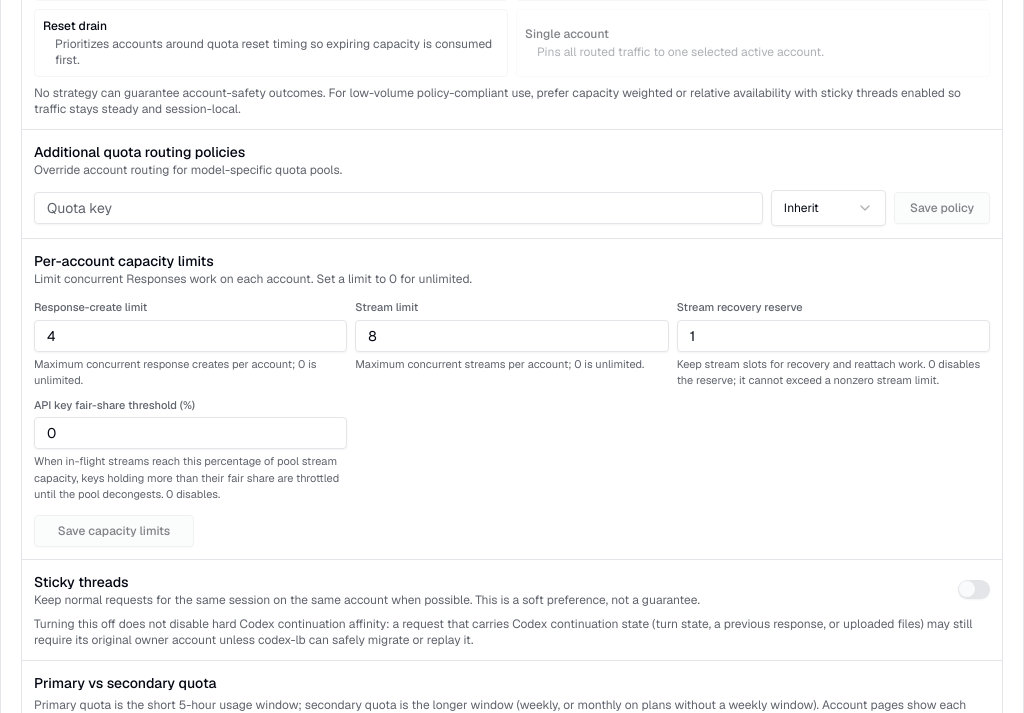
Test: RoutingSettings › rejects invalid account capacity limits before saving
(page scrolled)
Replace the text in the number field labelled "Stream limit" with "2" at (512, 336), box [355, 320, 669, 352]
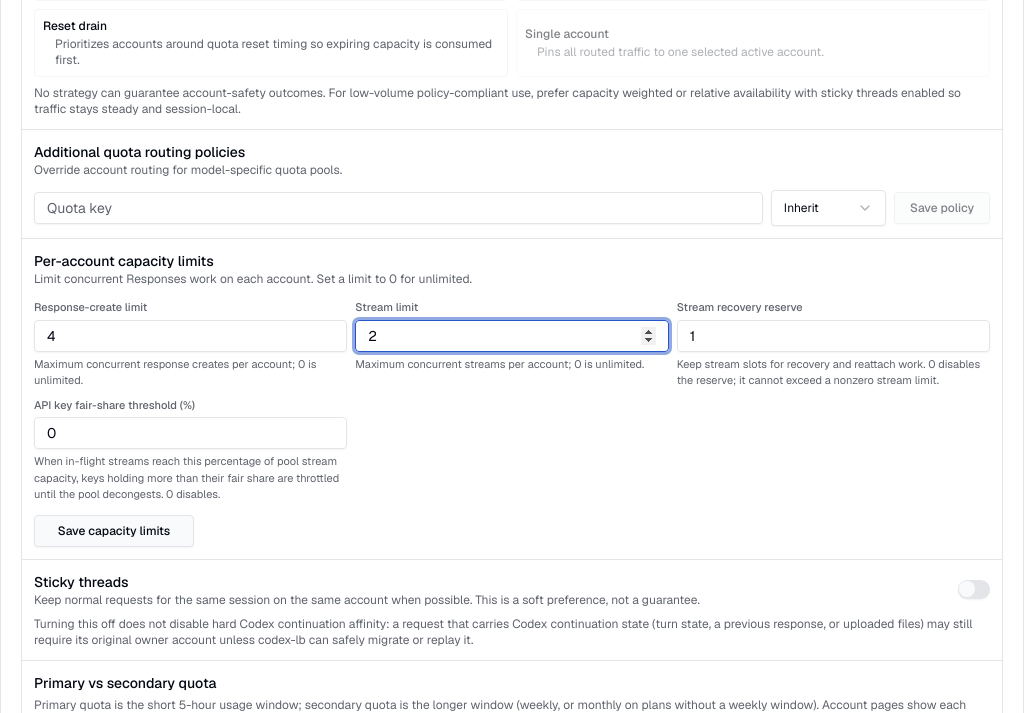
Replace the text in the number field labelled "Stream recovery reserve" with "3" at (833, 336), box [677, 320, 990, 352]
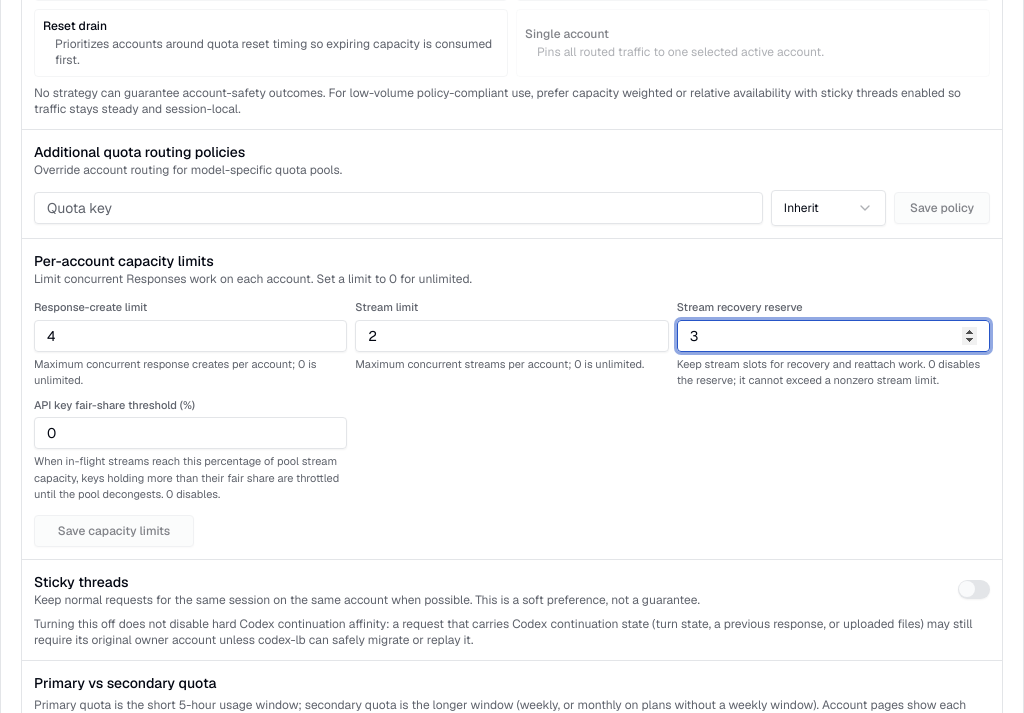
Check: the button "Save capacity limits" is disabled, box [34, 514, 194, 546]
Replace the text in the number field labelled "Stream recovery reserve" with "1.5" at (833, 336), box [677, 320, 990, 352]
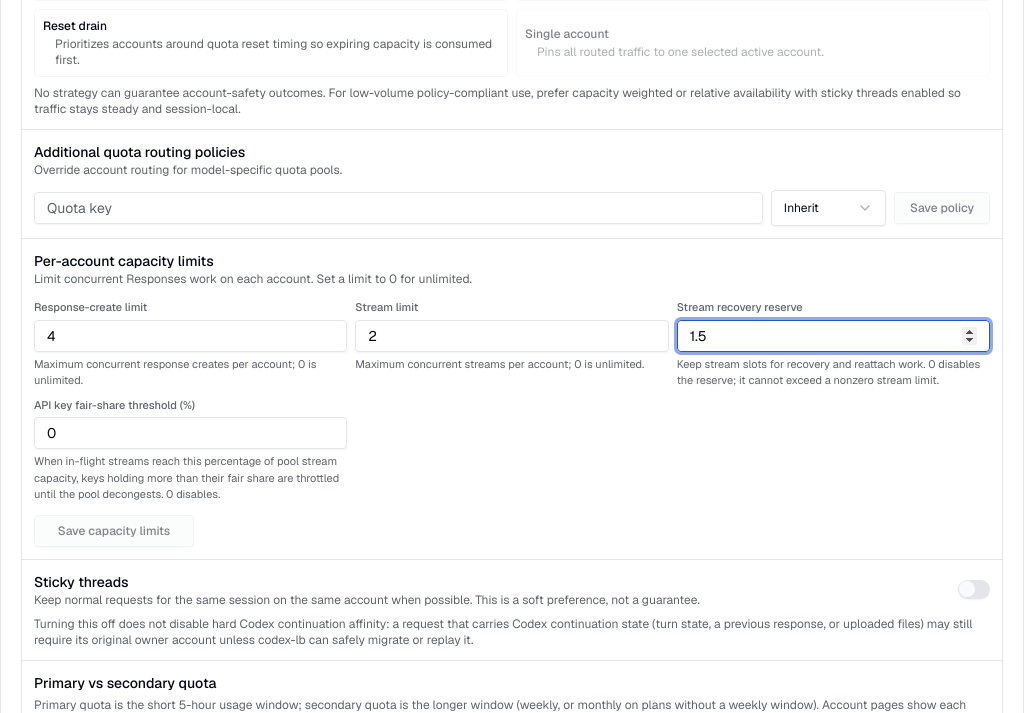
Check: the button "Save capacity limits" is disabled, box [34, 514, 194, 546]
Replace the text in the number field labelled "Stream recovery reserve" with "1" at (833, 336), box [677, 320, 990, 352]
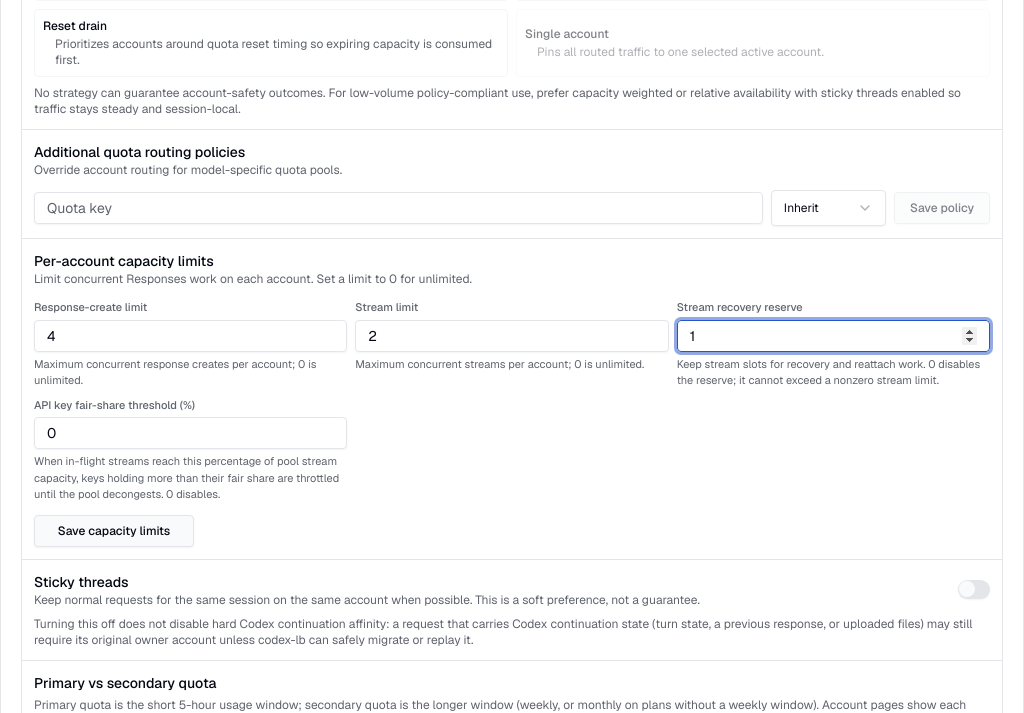
Check: the button "Save capacity limits" is enabled, box [34, 514, 194, 546]
Replace the text in the number field labelled "API key fair-share threshold (%)" with "101" at (191, 433), box [34, 417, 347, 449]
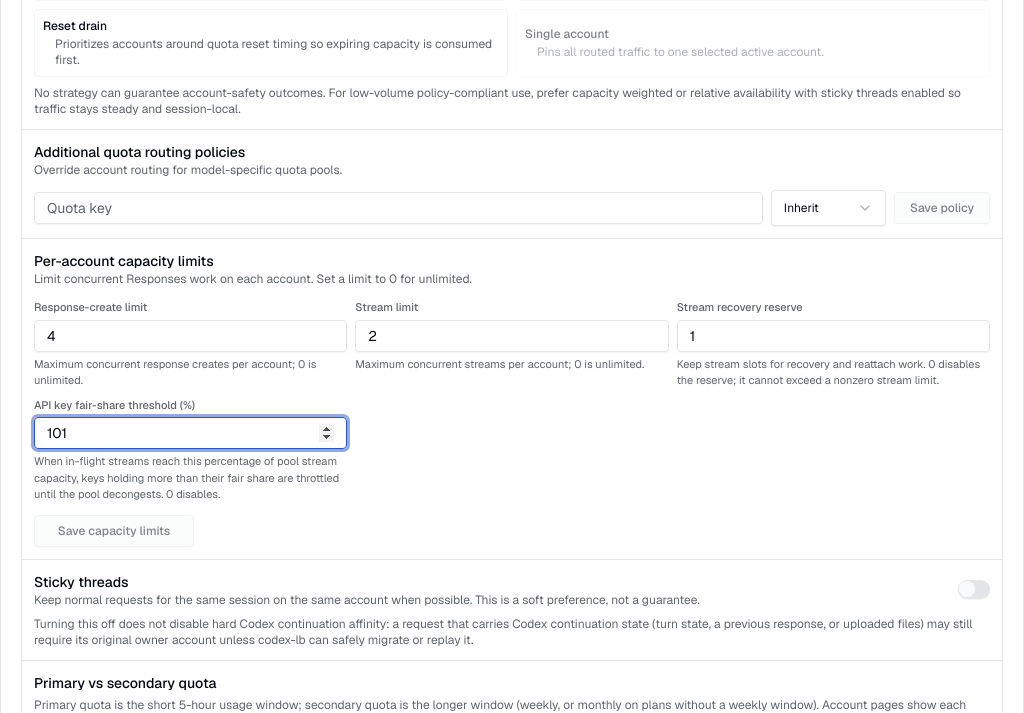
Check: the button "Save capacity limits" is disabled, box [34, 514, 194, 546]
